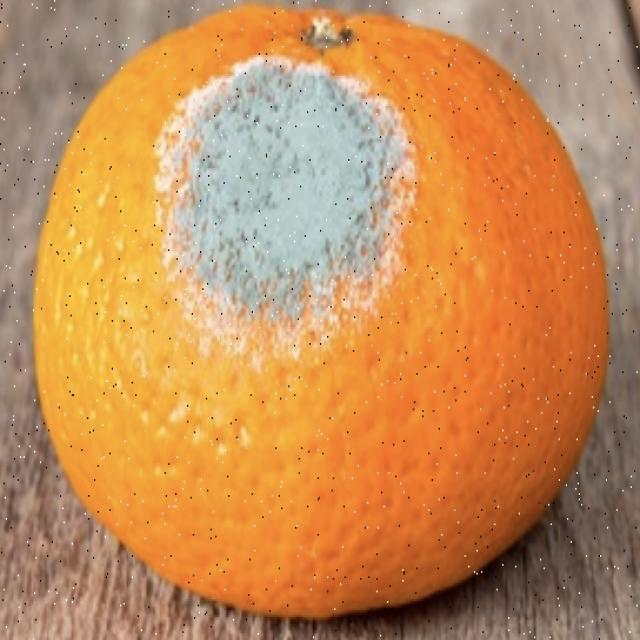sedikit-busuk: (33, 5, 607, 617), (158, 56, 414, 341)
